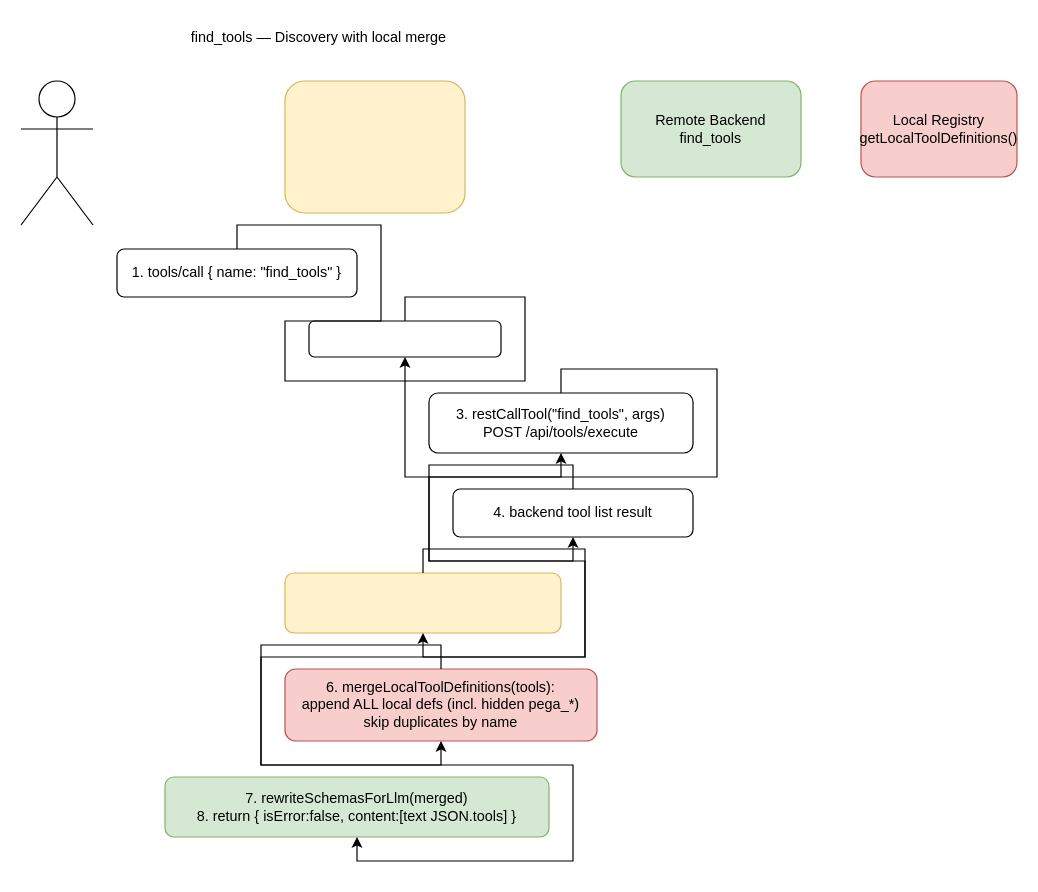
This 1038x892 diagram has some shape labels left out. Each missing label, with the box of its shape:
2. isLocalTool(name)? false: (308, 320, 501, 357)
5. rewriteFindToolsResponse: parse content[0].text, tools[]: (284, 572, 561, 633)
LLM: (20, 80, 93, 225)
WrapperServer routeToolCall handleFindTools: (284, 80, 465, 213)
